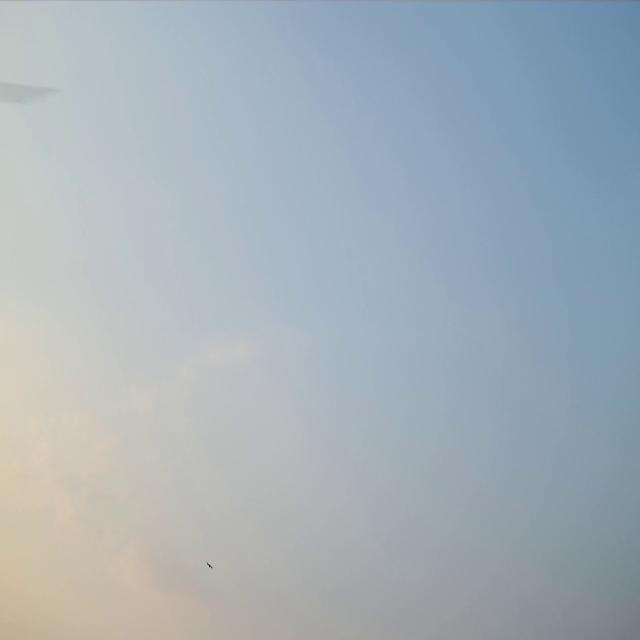UAV: (207, 562, 212, 568)
